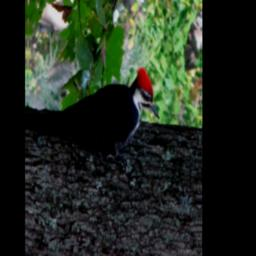Woodpecker: (27, 62, 161, 174)
